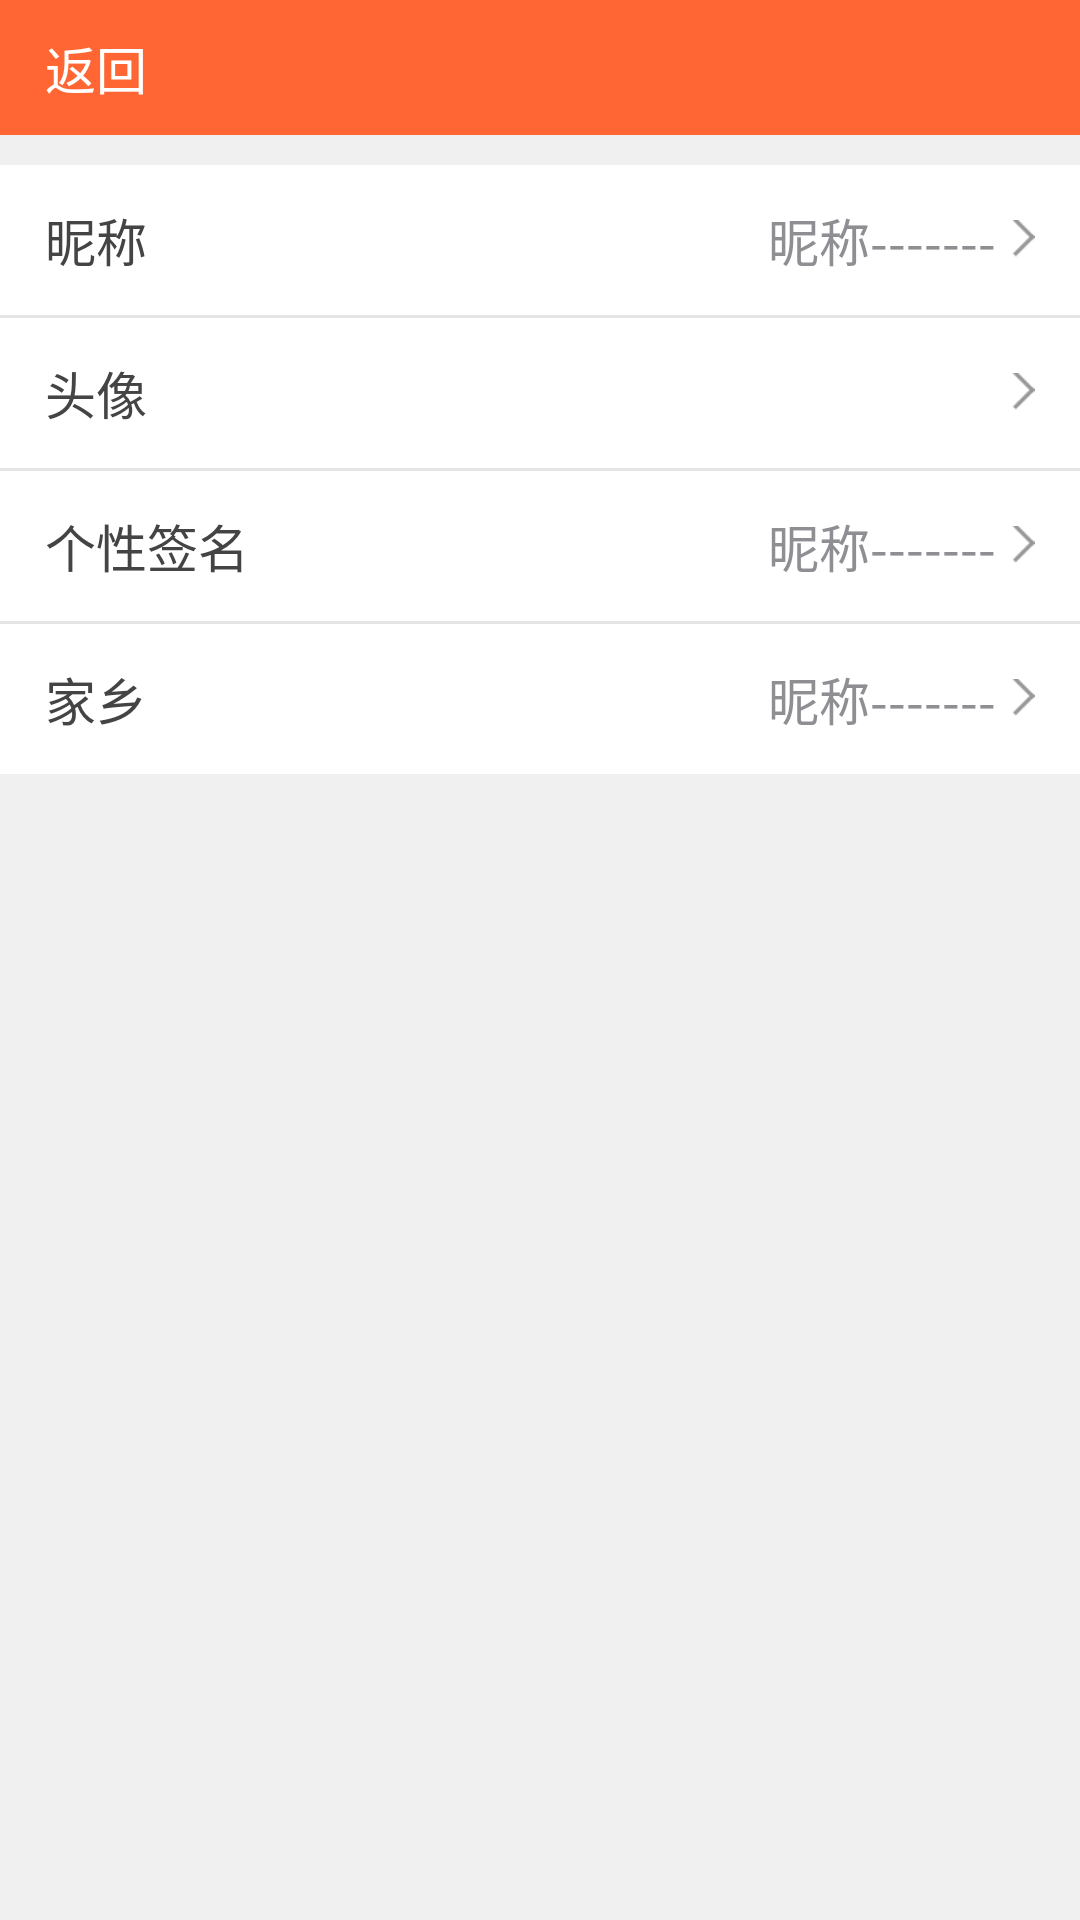

Point at icon controls on the screen. Image size 1080px x 1920px, points as [x,y].
item into: [1024,238], [1024,391], [1024,544], [1024,697]
